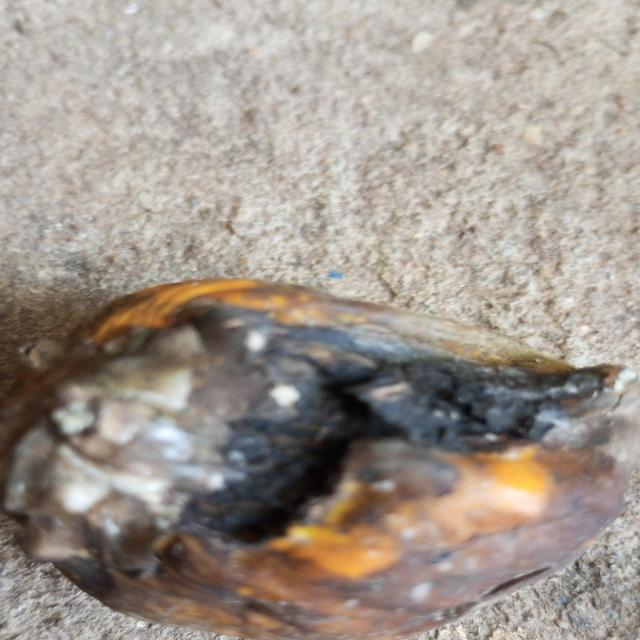damaged: (2, 279, 638, 640)
